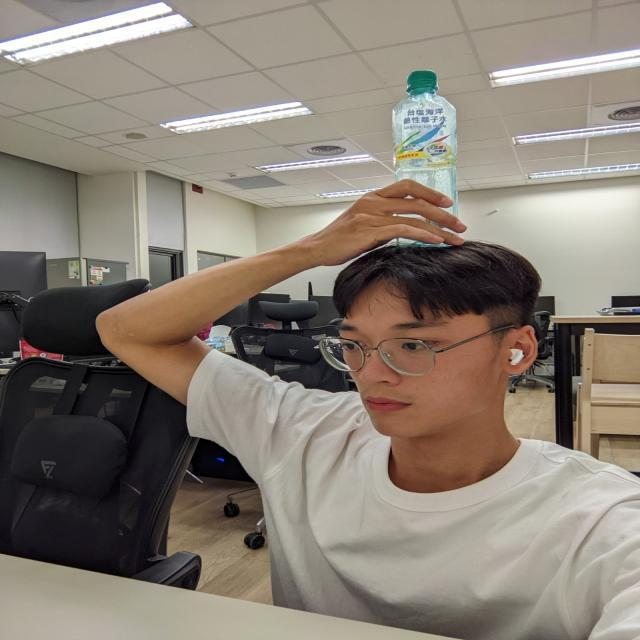good: (383, 62, 473, 248)
